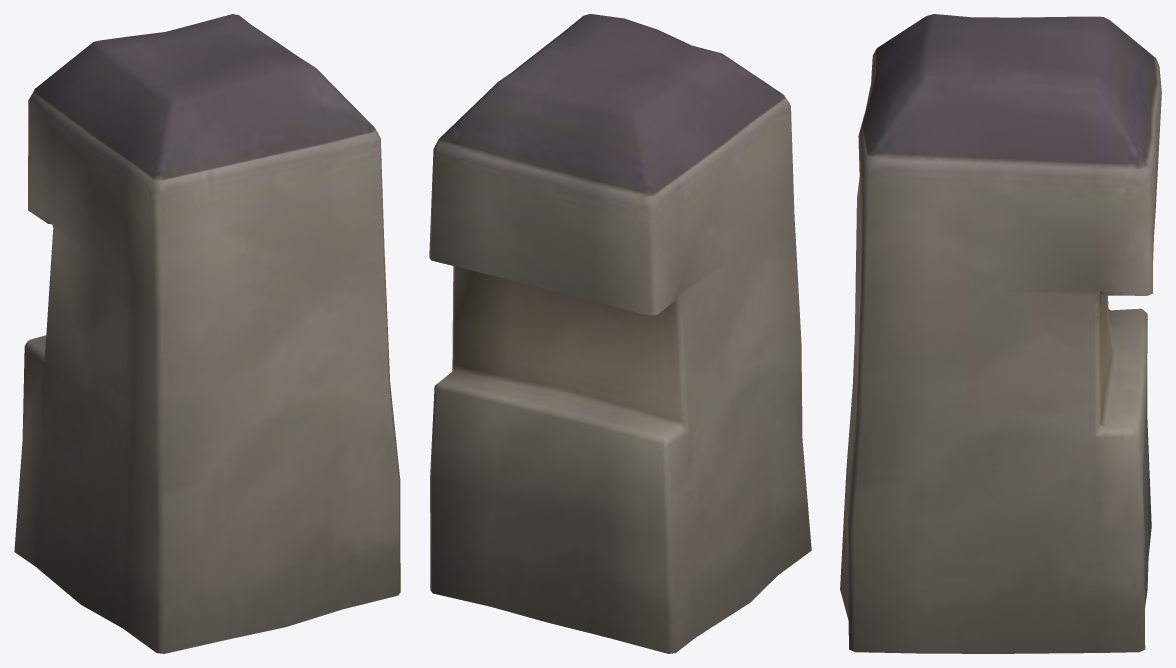
File: MSH_Building_012.glb
The picture shows the model from 3 angles, left to right: view 1: azimuth 30°, elevation 25°; view 2: azimuth 150°, elevation 25°; view 3: azimuth 270°, elevation 25°; orthographic projection. The views are drawn at different scales.
Parts seen in each view (by area): view 1: Base.008; view 2: Base.008; view 3: Base.008.
Boxes of the visible parts, x1=… form: Base.008: x1=14, y1=14, x2=400, y2=653; Base.008: x1=429, y1=14, x2=811, y2=653; Base.008: x1=840, y1=14, x2=1161, y2=653.
Bounding box in the file's own units: 5.3 × 10.3 × 5.47.
1 material, 1 textured.
